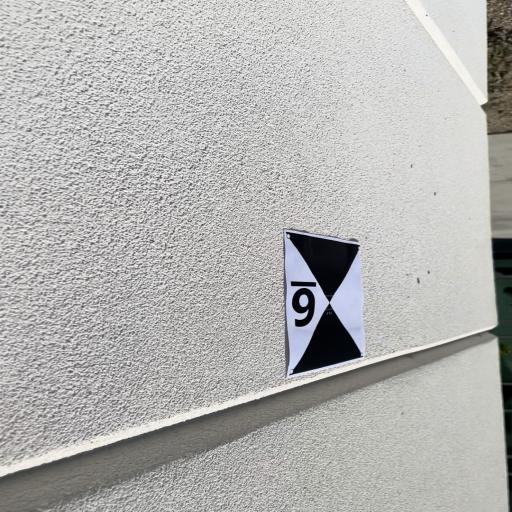target6: (283, 227, 370, 379)
